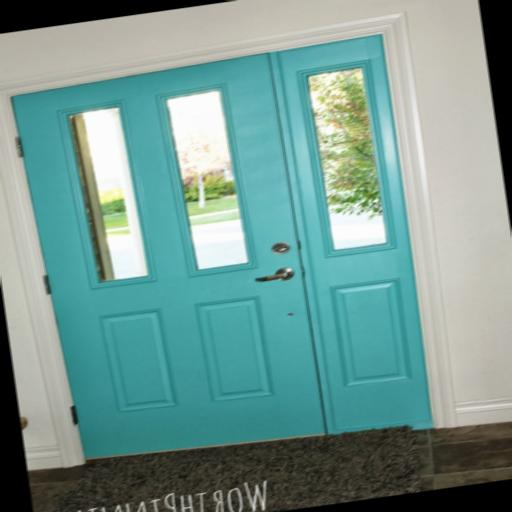Door: (9, 52, 326, 472)
